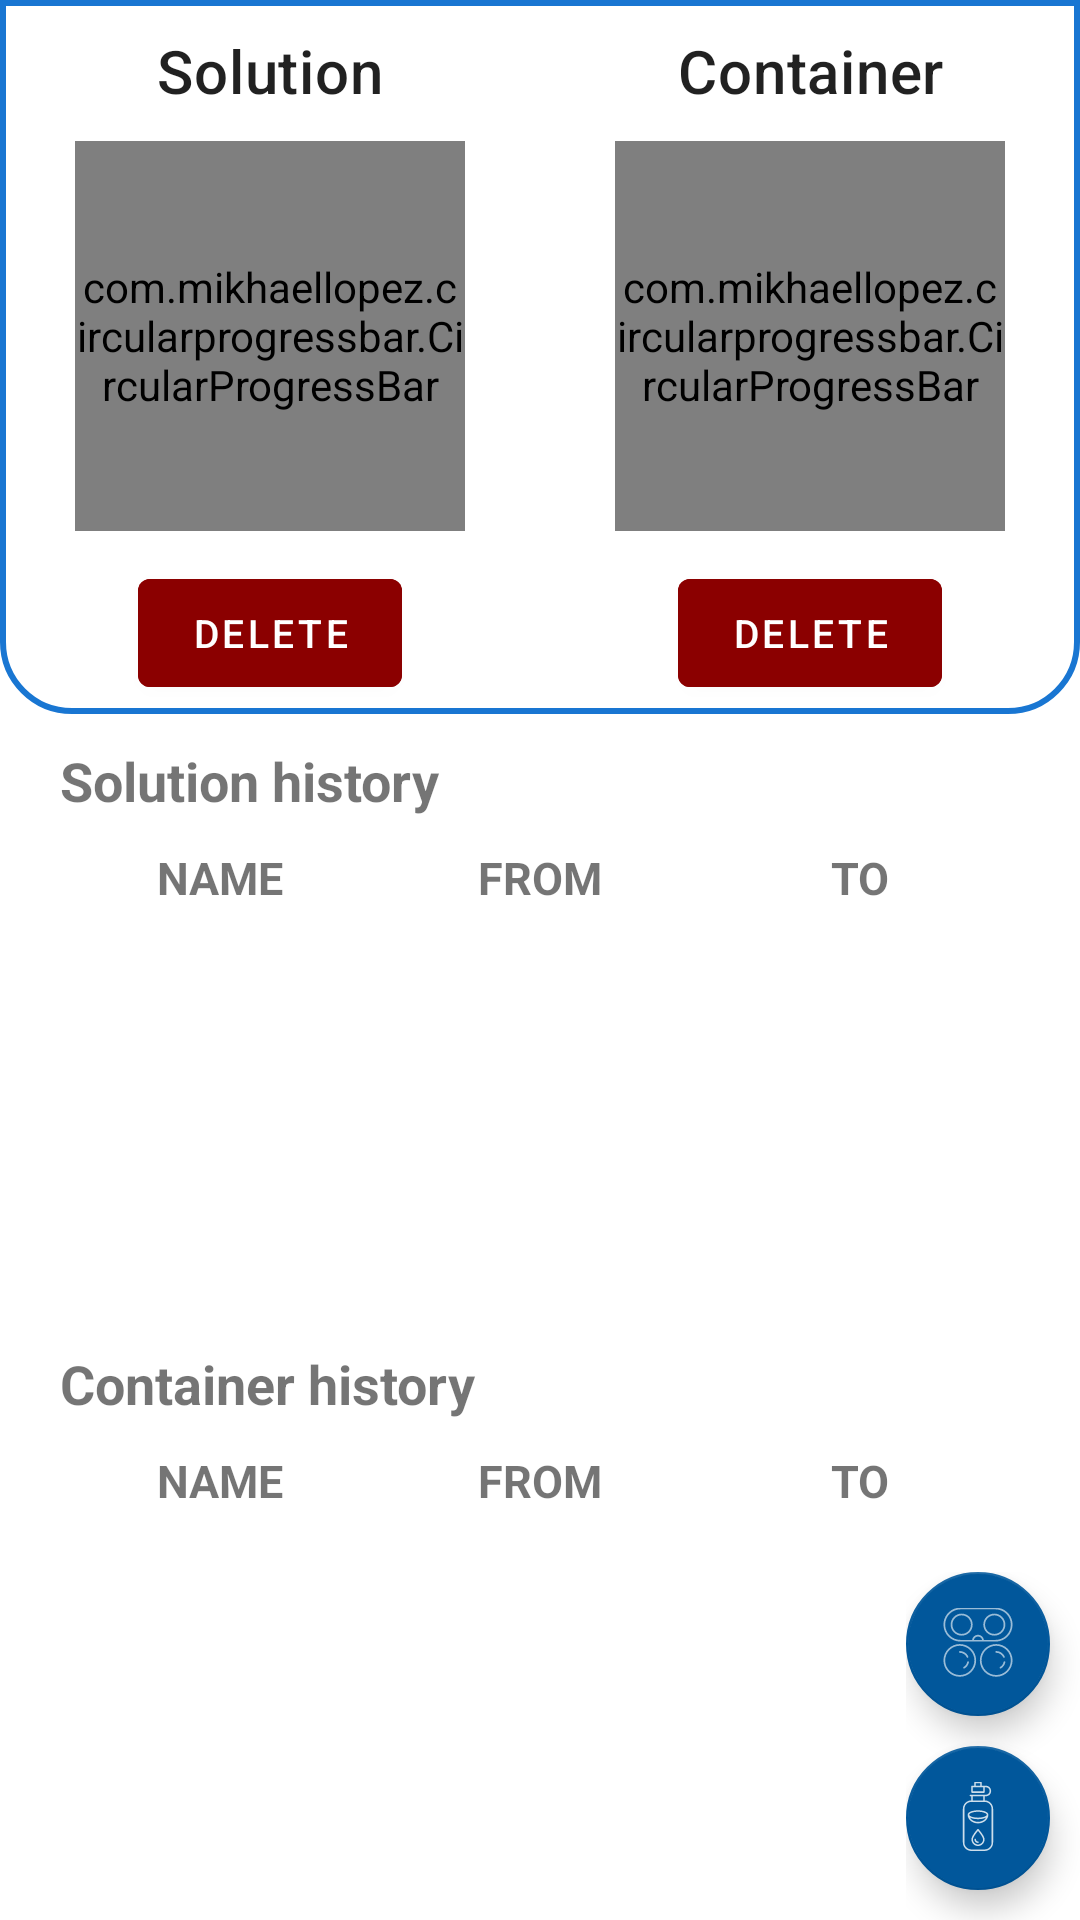

Screen size 1080 × 1920. Icon name, then its center in pixels as point (x, y):
add new container: point (978, 1644)
add new solution: point (978, 1818)
